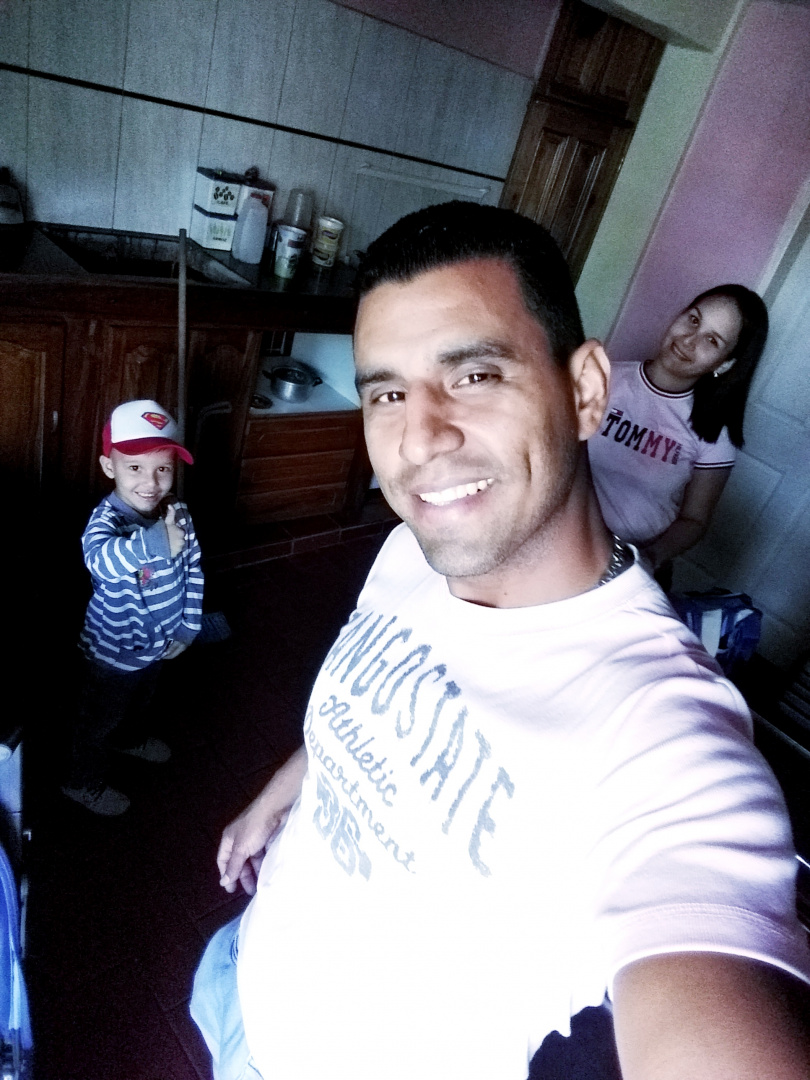person: (278, 187, 762, 897)
